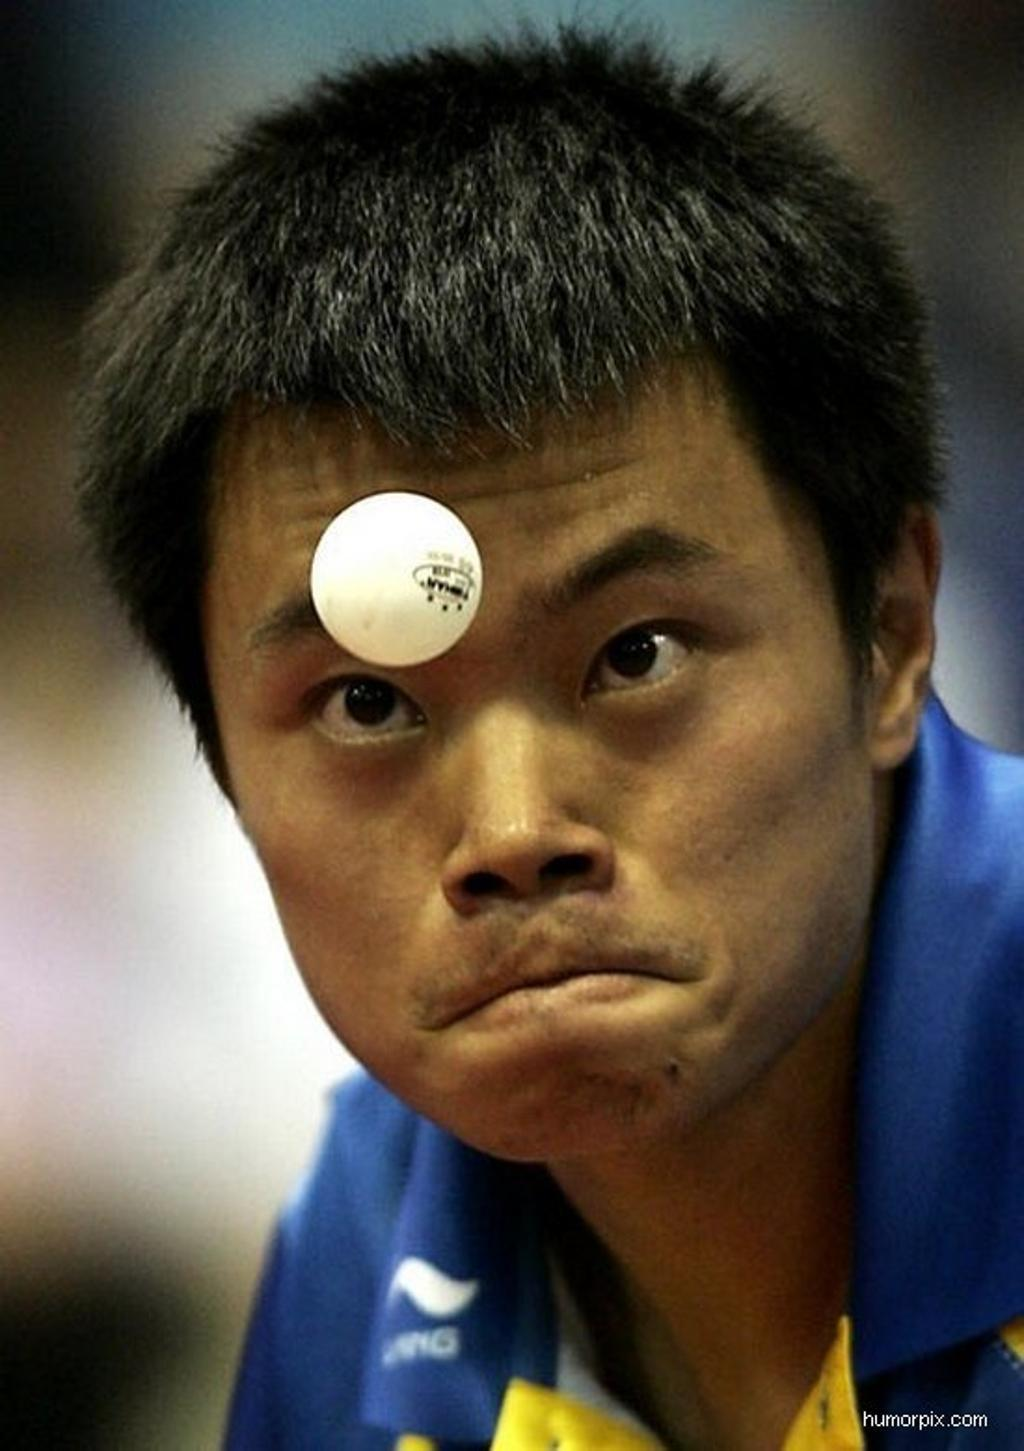face: (197, 367, 875, 1158)
